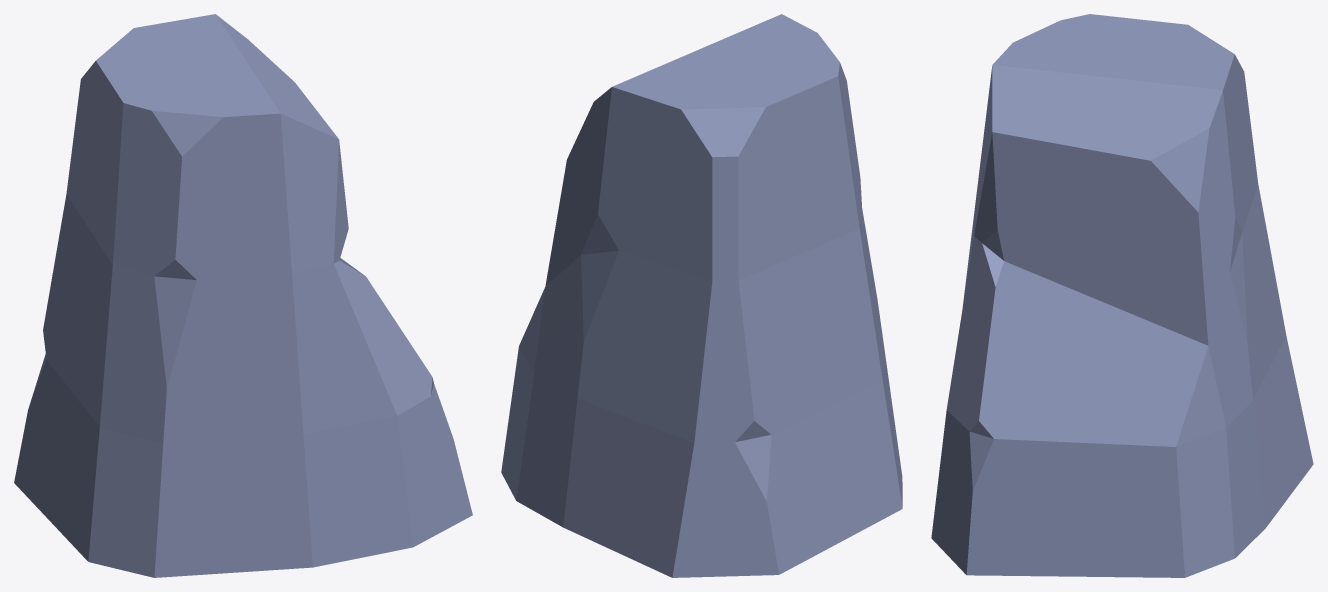
Rendered from Rock_40.fbx.
The picture shows the model from 3 angles, left to right: view 1: azimuth 30°, elevation 25°; view 2: azimuth 150°, elevation 25°; view 3: azimuth 270°, elevation 25°; orthographic projection. The views are drawn at different scales.
Parts seen in each view (by area): view 1: Rock_40; view 2: Rock_40; view 3: Rock_40.
Part boxes in pixels (<box>): Rock_40: <box>14,14,472,577</box>; Rock_40: <box>501,14,902,577</box>; Rock_40: <box>931,14,1313,577</box>.
Size of the model in its own units: 1.78 by 2.17 by 1.77.
